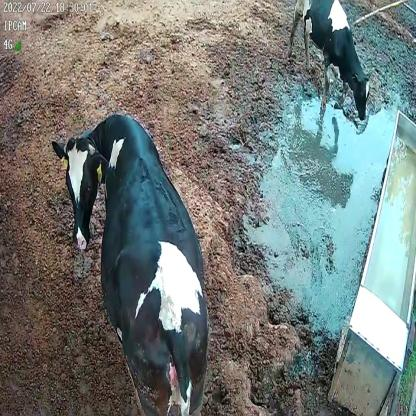cow: (51, 113, 210, 416), (286, 0, 374, 125)
